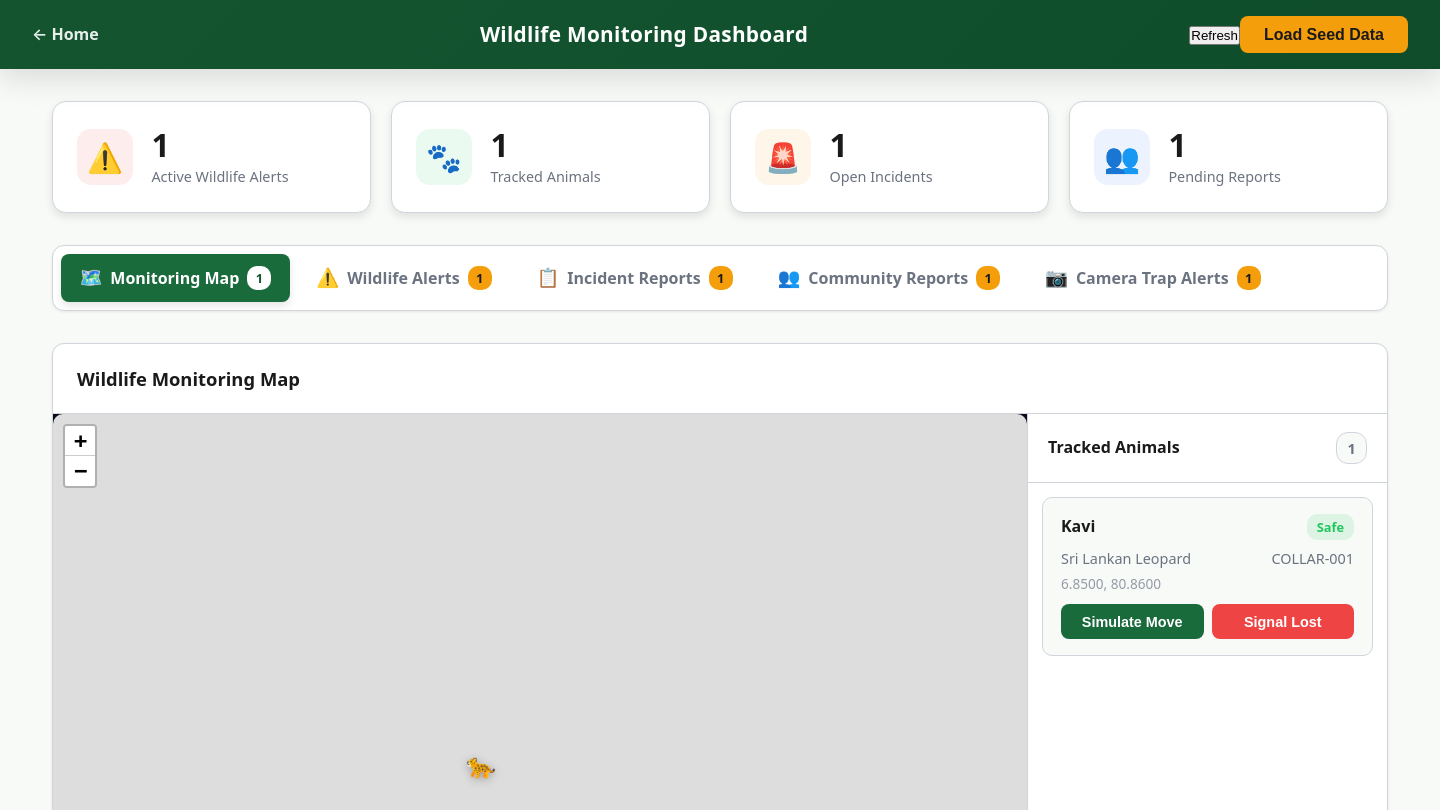
Test: SupervisorDashboard tabs › shows incident reports data when the incidents tab is clicked
Click the tab "📋 Incident Reports 1": (634,278) [518, 254, 751, 302]
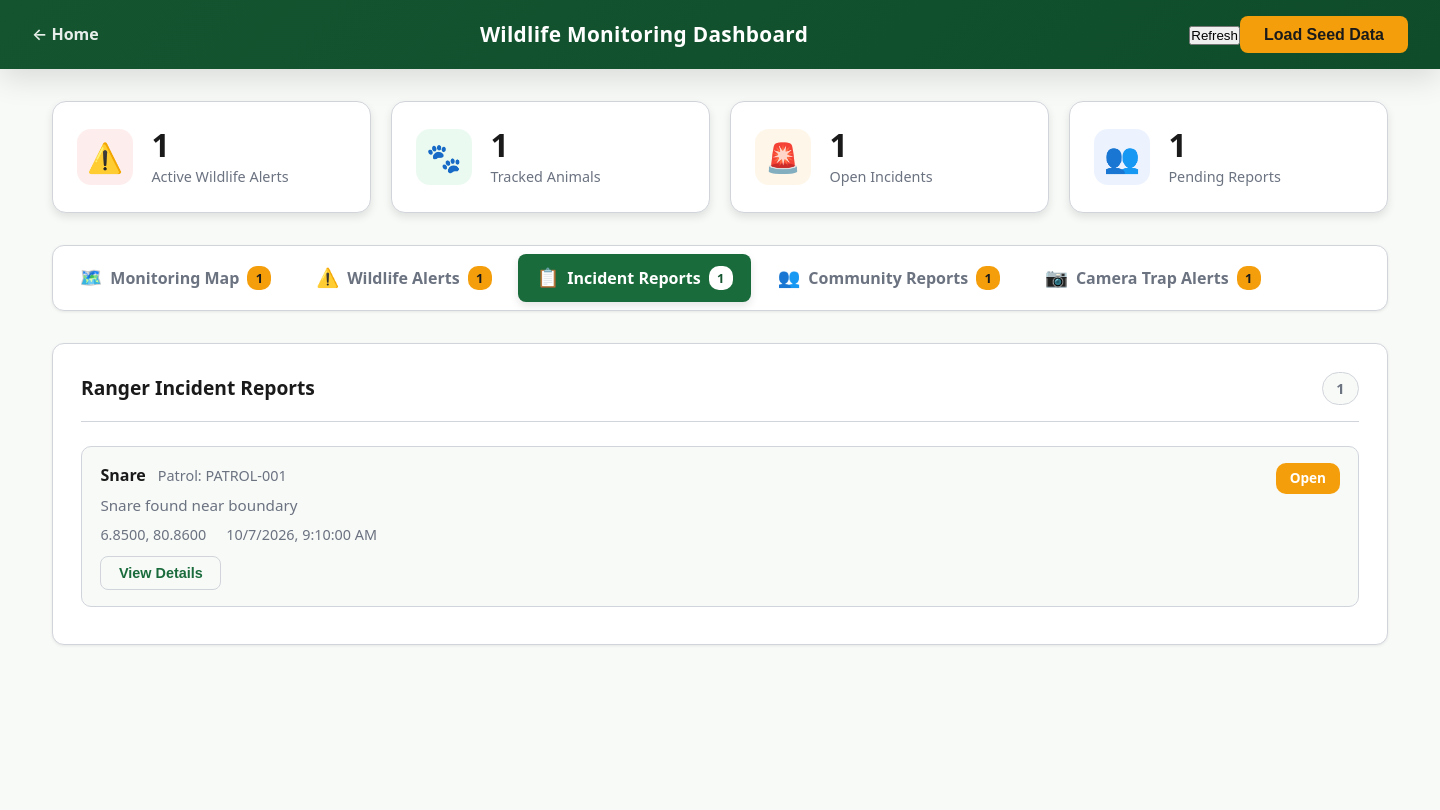
Check: the heading "Ranger Incident Reports" is shown, box [81, 373, 315, 404]
Check: the text "Snare" is shown, box [100, 463, 146, 488]
